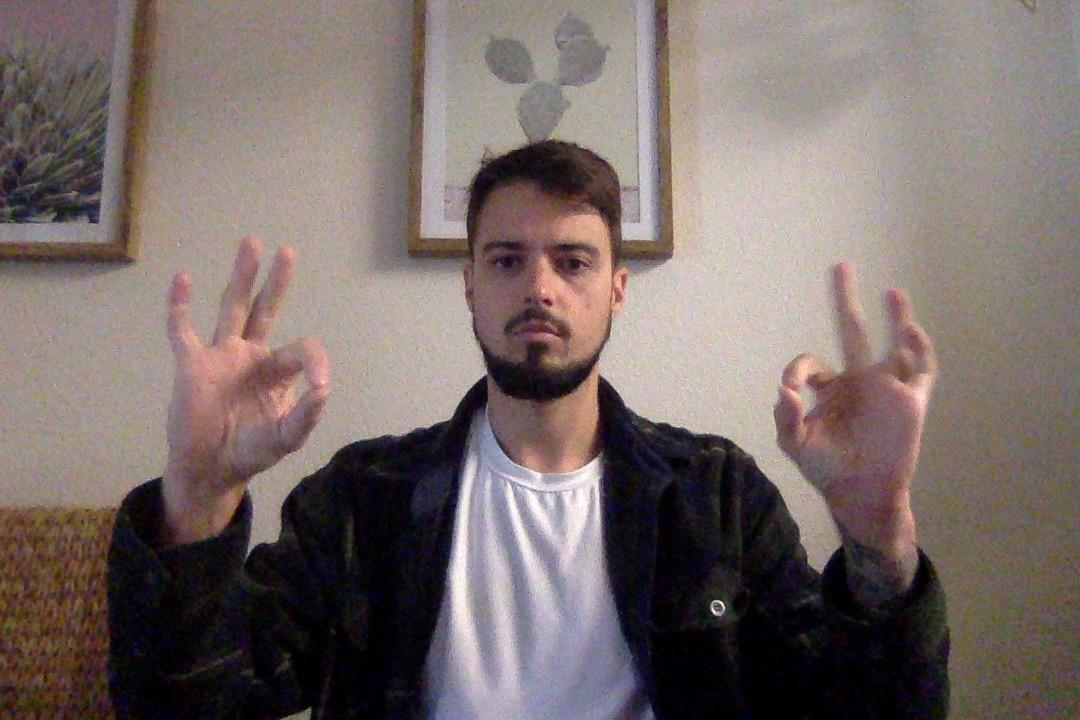Okay: (156, 232, 334, 506), (773, 258, 927, 534)
